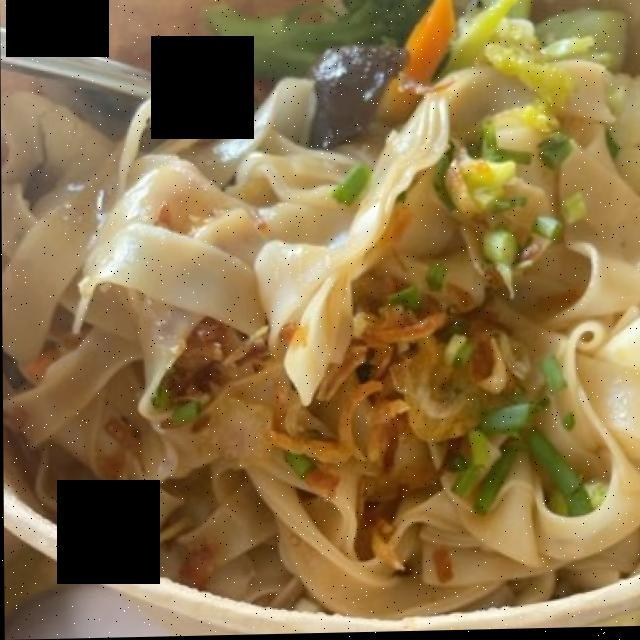broccoli: (199, 0, 426, 90)
cabbage: (449, 5, 589, 244)
carrots: (380, 1, 468, 123)
mushroom-stew: (314, 34, 420, 157)
noodles: (23, 19, 618, 590)
onion: (446, 369, 592, 523)
